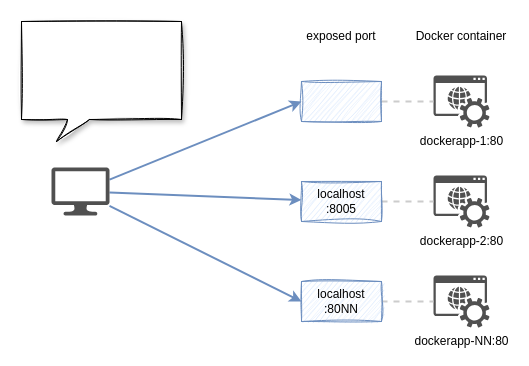
The diagram is 529 pixels wide and 366 high, and some of its shapes have lost their labels. Each missing label, with the centre of its shape:
"localhost :8004" goes at (x=341, y=101).
"Webbrowser opens http :// localhost: PORT" goes at (x=102, y=82).
